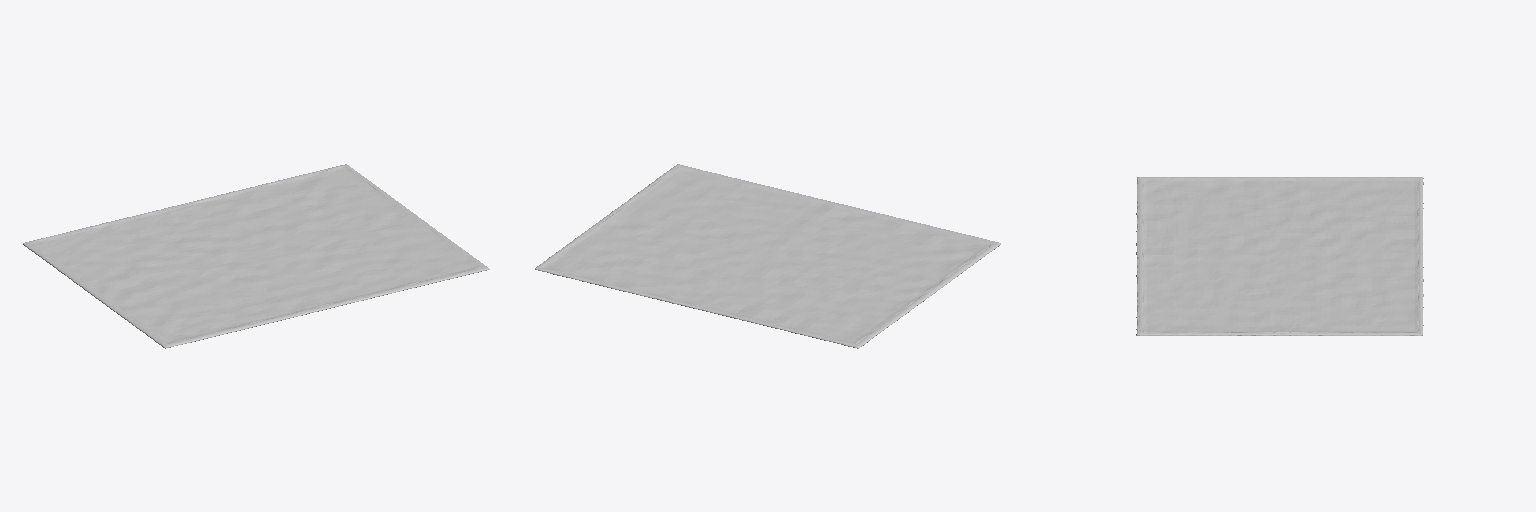
File: floor.obj
3 renders of one model, left to right at view 1: azimuth 30°, elevation 25°; view 2: azimuth 150°, elevation 25°; view 3: azimuth 270°, elevation 25°, orthographic.
Parts seen in each view (by area): view 1: floor; view 2: floor; view 3: floor.
Part boxes in pixels (bbox=[...]): floor: bbox=[23, 164, 489, 348]; floor: bbox=[535, 164, 1000, 348]; floor: bbox=[1136, 177, 1423, 335].
Bounding box in the file's own units: 106 × 0.6399 × 80.77.